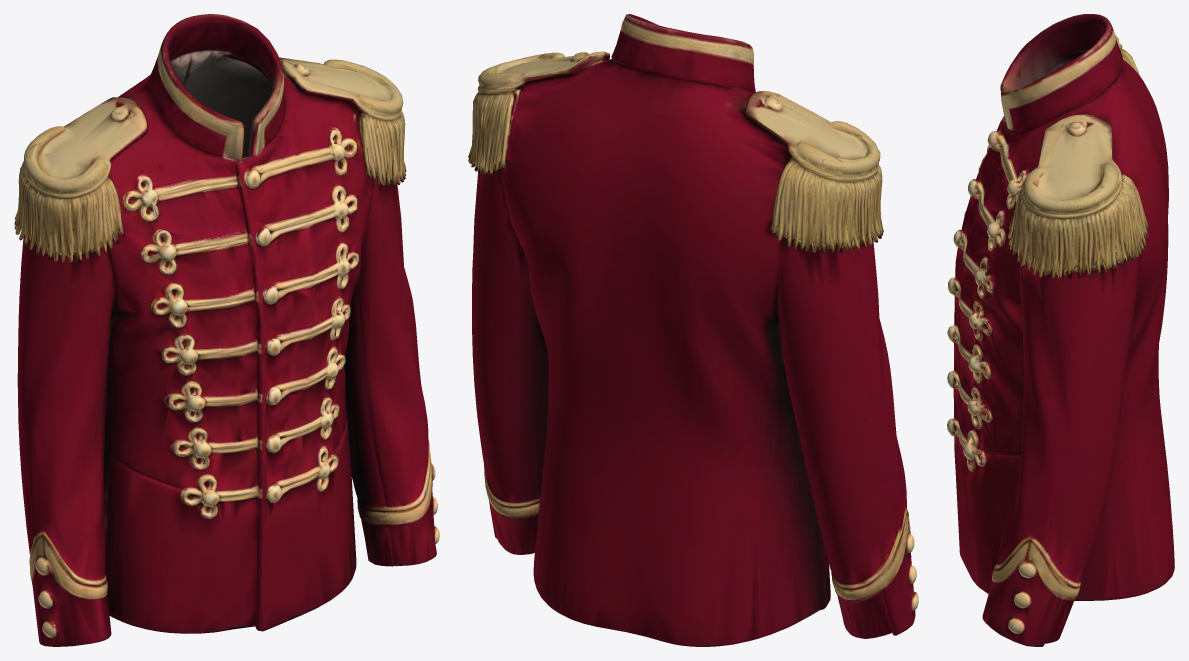
The model's file is fanfarra.glb.
3 views of the same model, side by side, from view 1: azimuth 30°, elevation 25°; view 2: azimuth 150°, elevation 25°; view 3: azimuth 270°, elevation 25° (orthographic). The views are drawn at different scales.
Visible parts, largest first — view 1: node_0; view 2: node_0; view 3: node_0.
Boxes of the visible parts, bbox=[...] form: node_0: bbox=[14, 14, 439, 646]; node_0: bbox=[468, 14, 918, 646]; node_0: bbox=[947, 14, 1174, 646].
Size of the model in its own units: 0.7309 by 0.9803 by 0.3778.
1 material, 1 textured.
